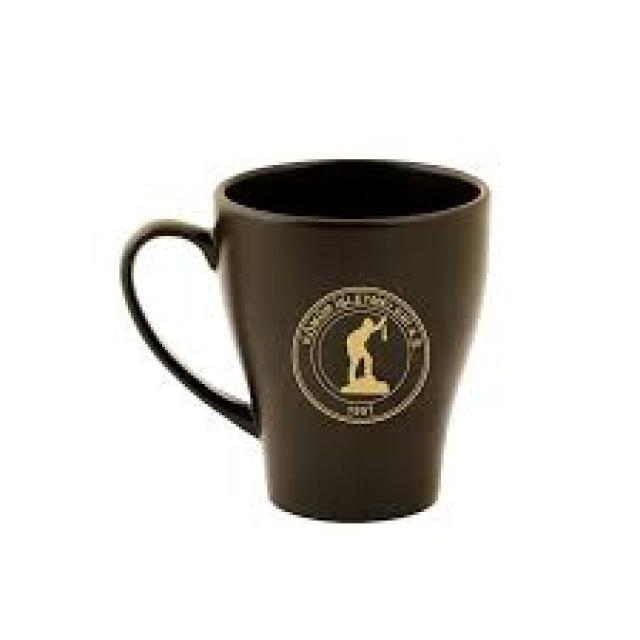taza: (120, 158, 490, 526)
